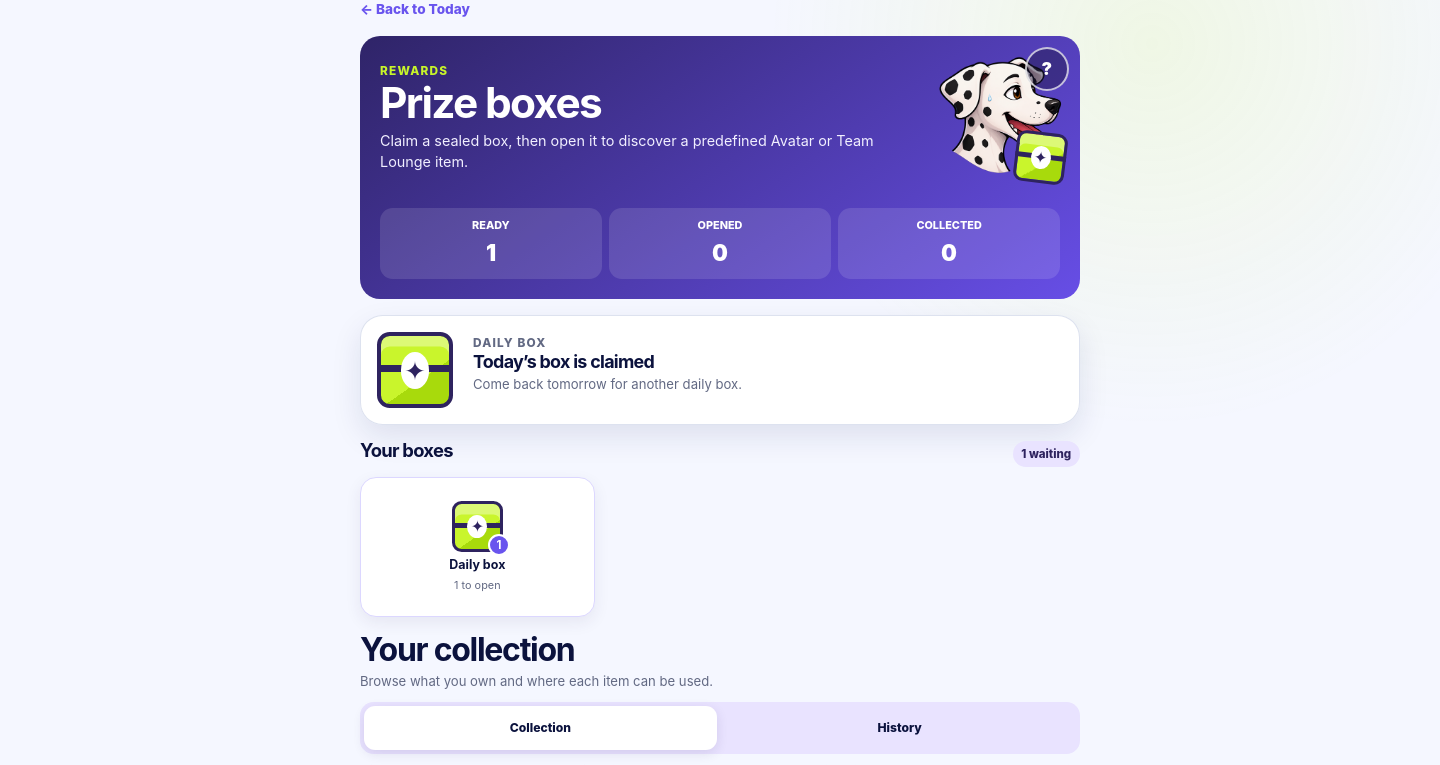
Scenario: PrizeBoxesExperience › keeps a failed open sealed and reuses its idempotency key
Click the button with aria-label "Open Daily box, 1 waiting" at (477, 548), box [360,478,595,618]
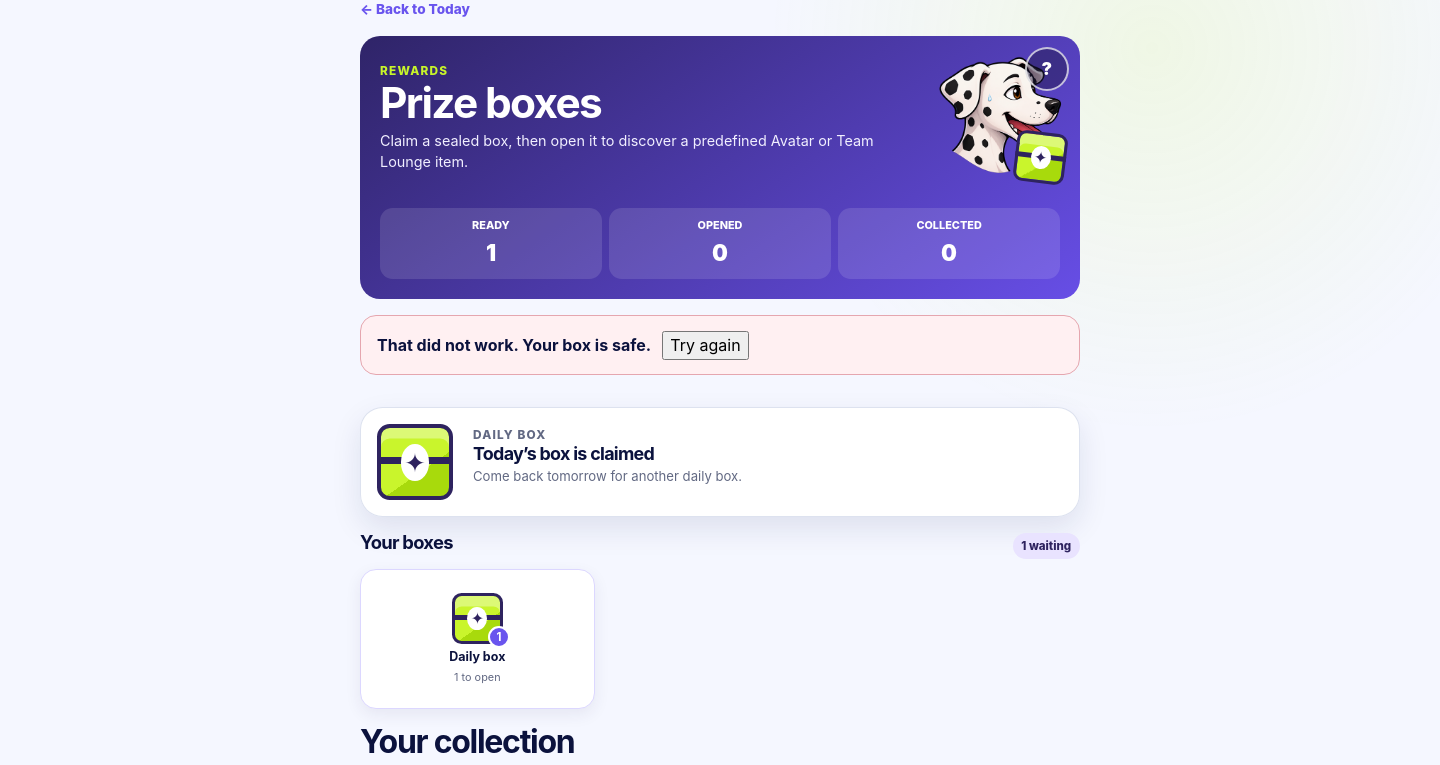
Expected: the button with aria-label "Open Daily box, 1 waiting" is shown, [360,569,595,709]
Expected: the message shows "Your box is safe", [377,335,651,355]
Click the button "Try again" at (705, 345), box [662,331,749,360]
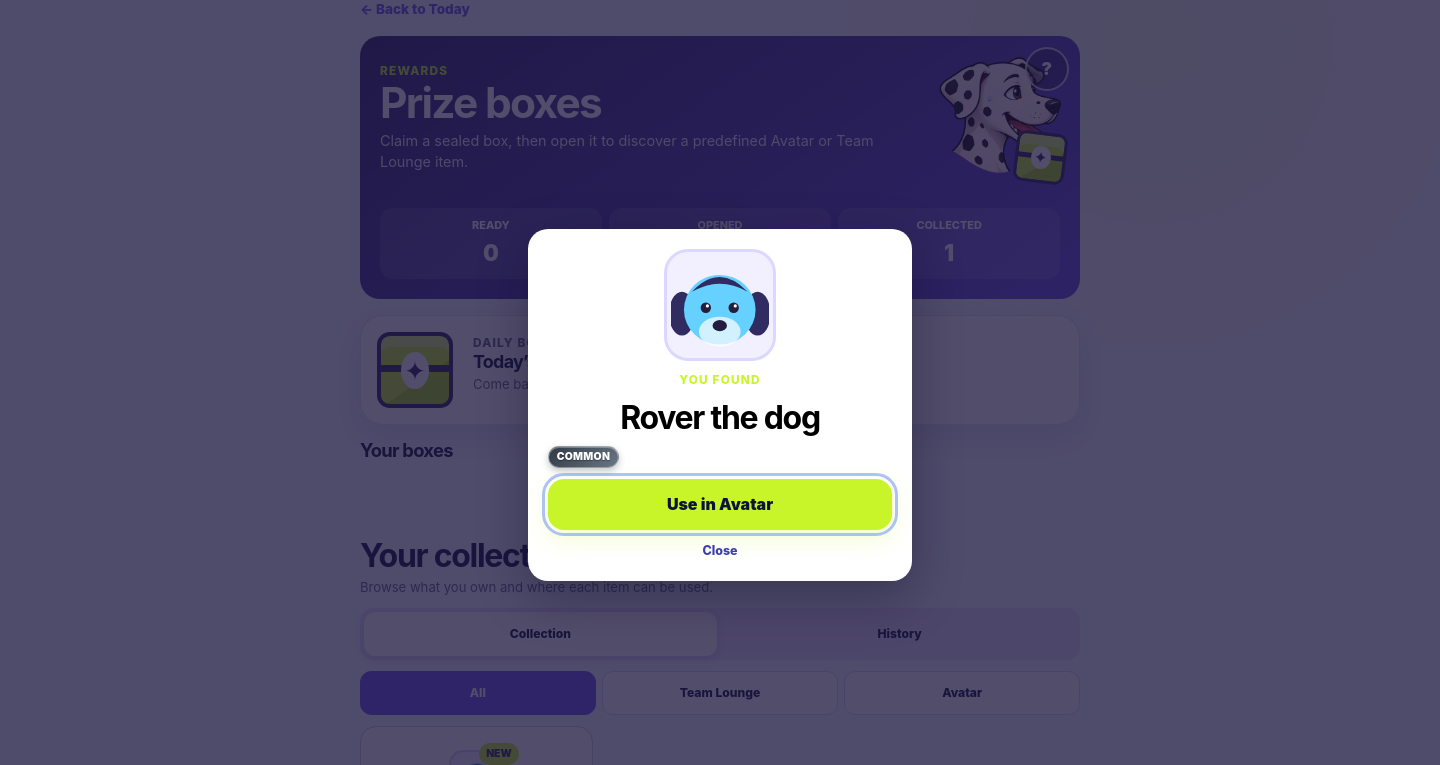
Expected: the dialog shows "Rover the dog", [620,398,820,437]
